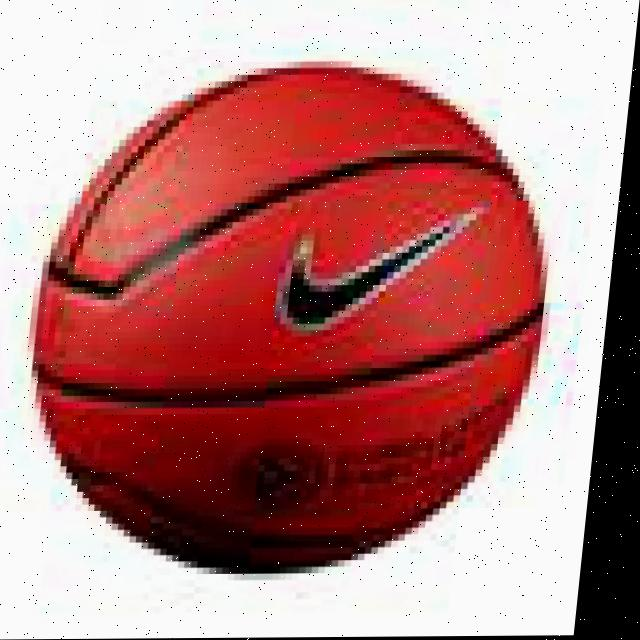Basketball: (4, 60, 569, 579)
